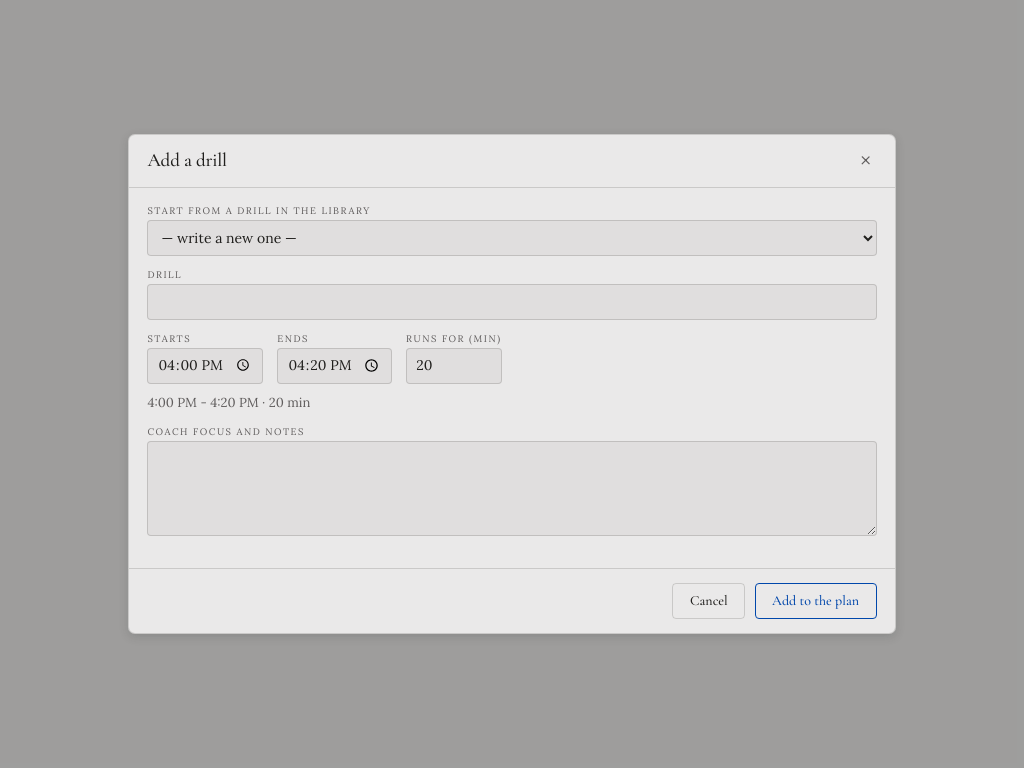
it: saving › will not save a drill with no name
Click the button "Add to the plan" at (816, 601), box [754, 583, 877, 619]
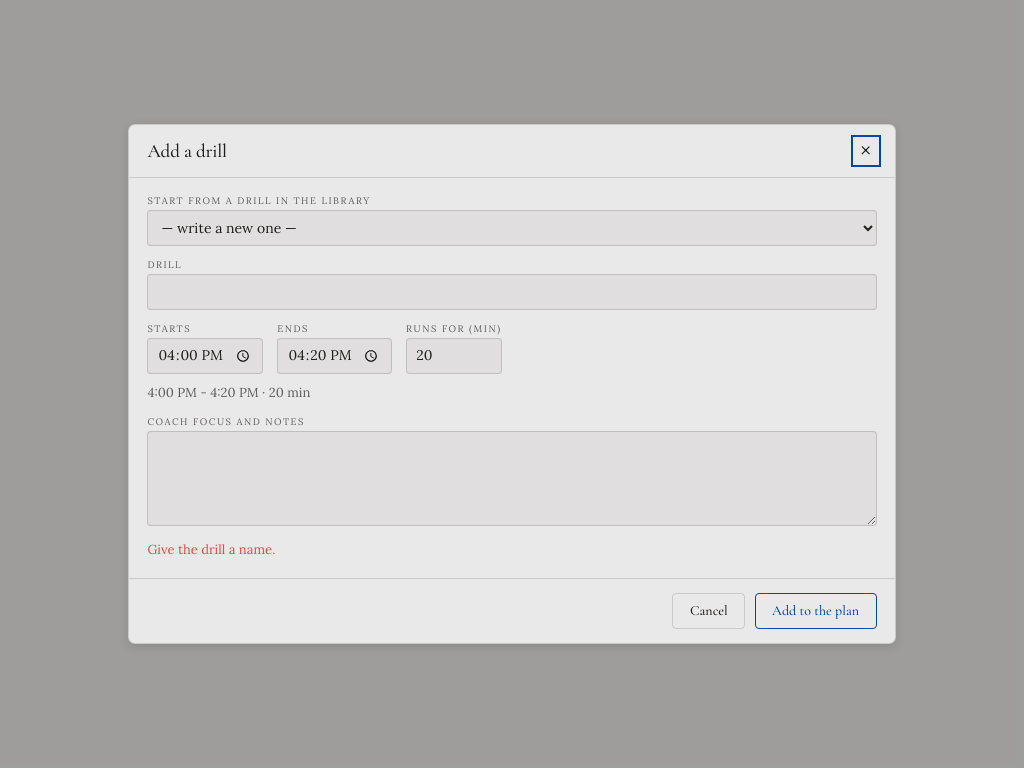
Check: the message "Give the drill a name." is shown, box [147, 541, 275, 558]
